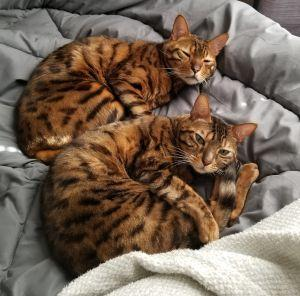bengal: (155, 13, 235, 92)
